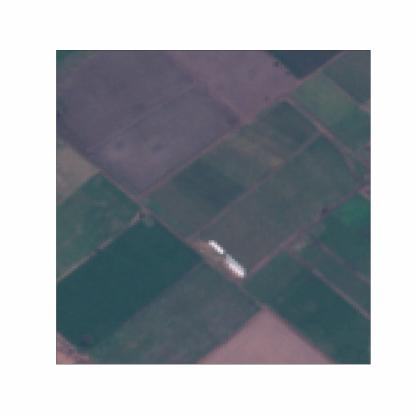silobolsa: (221, 253, 249, 279), (210, 238, 227, 254)
